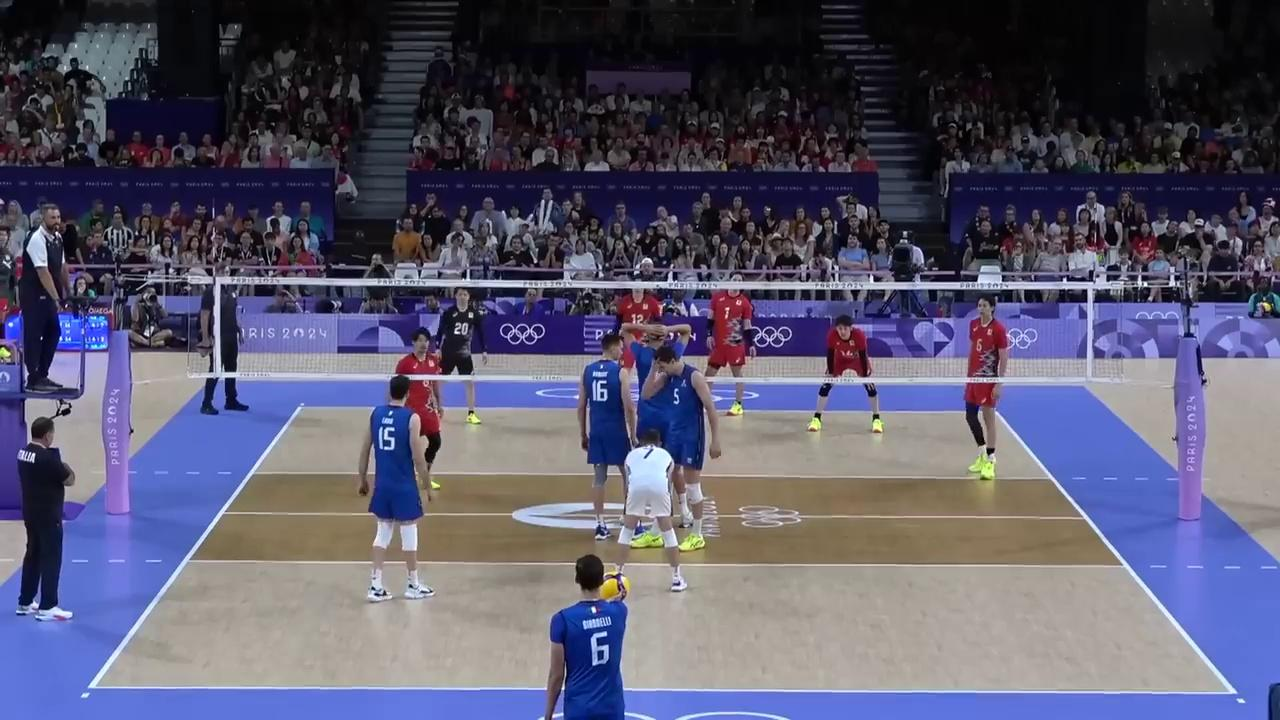ball: (602, 575, 627, 600)
